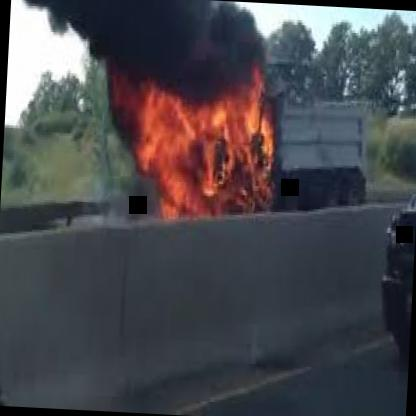fire: (75, 1, 288, 209)
